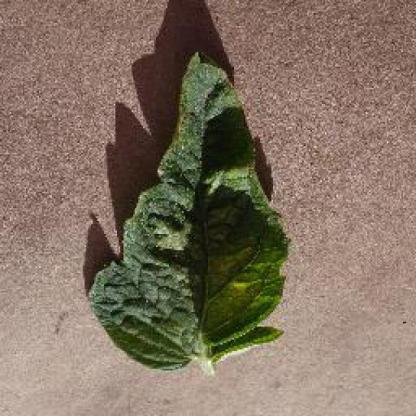Tomato_Spider_Mites: (88, 53, 285, 368)
